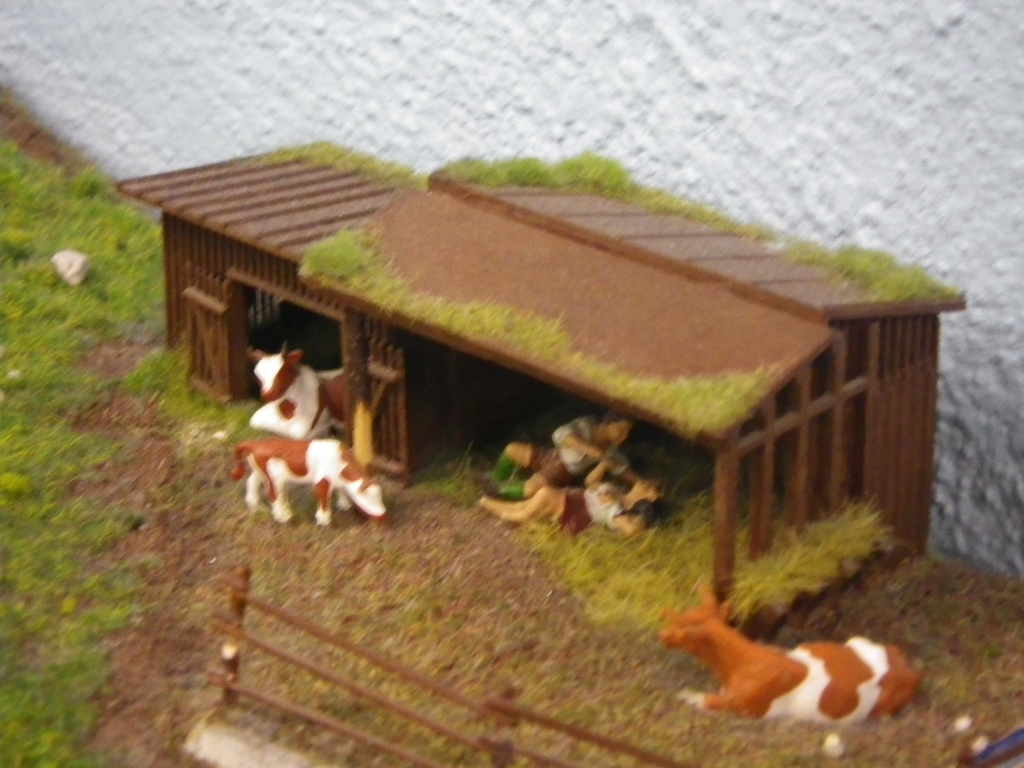person: (476, 408, 664, 537)
